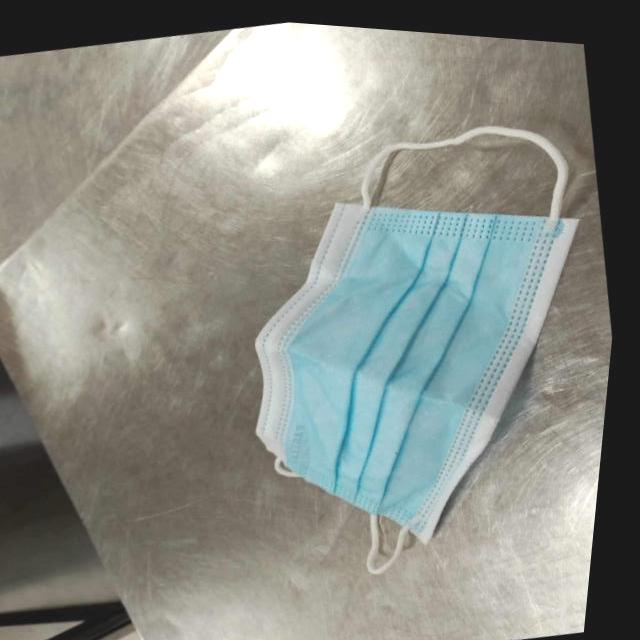General: (0, 18, 613, 639)
Infectious: (252, 125, 580, 569)
